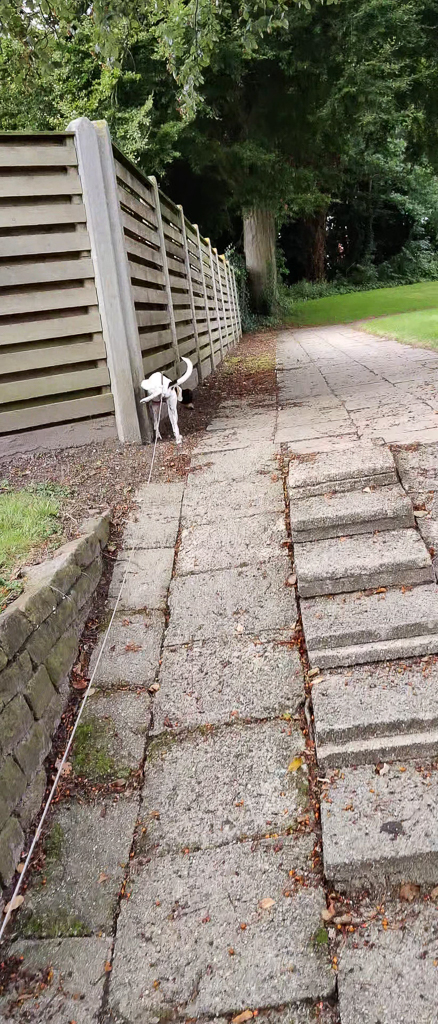Dog: (136, 348, 202, 452)
